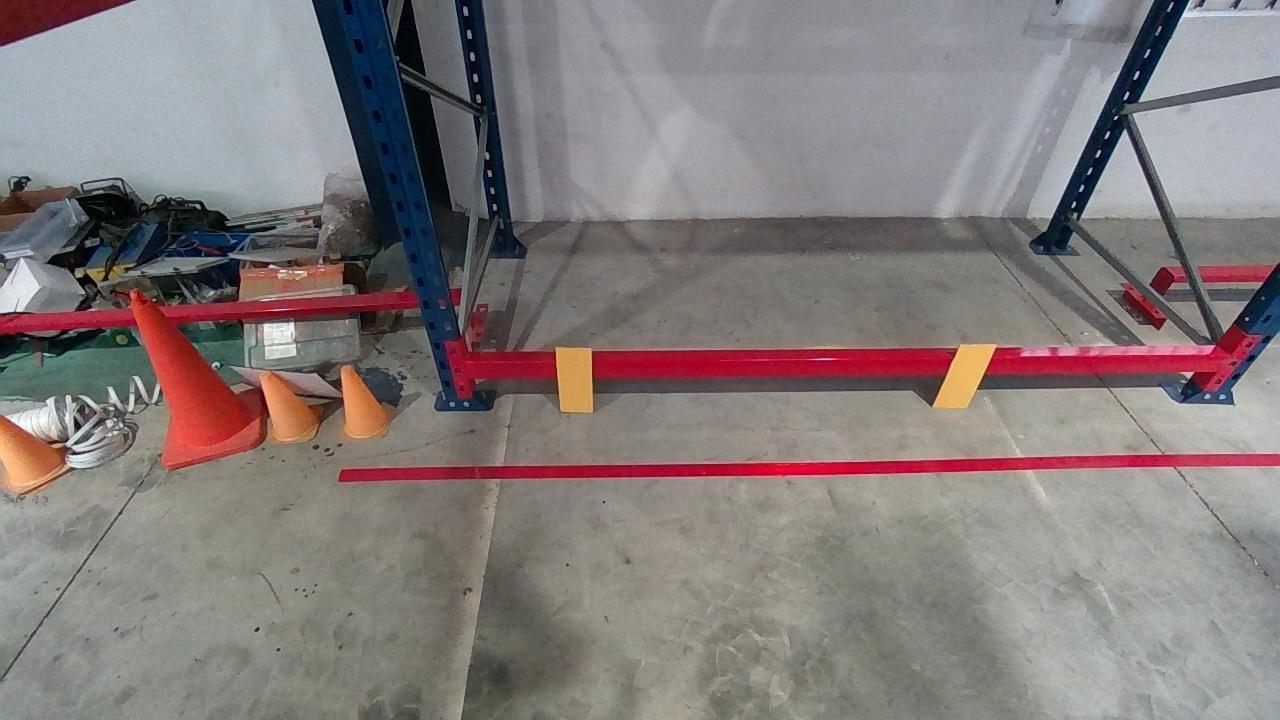h_rack: (468, 354, 1238, 378)
orange_strip: (931, 343, 999, 407), (554, 348, 594, 412)
red_line: (335, 451, 1277, 479)
